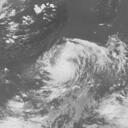cyclone: (39, 38, 121, 112)
